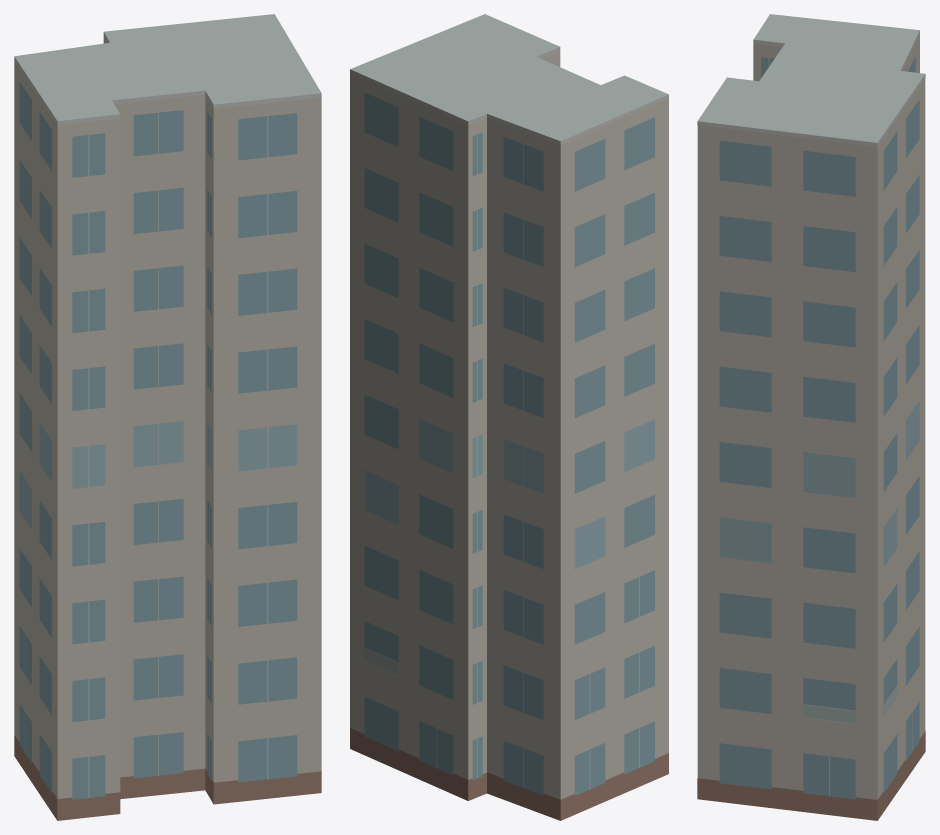
Rendered from survey-upis-32690069.glb.
3 views of the same model, side by side, from view 1: azimuth 30°, elevation 25°; view 2: azimuth 150°, elevation 25°; view 3: azimuth 270°, elevation 25° (orthographic). The views are drawn at different scales.
Visible parts, largest first — view 1: survey-upis-32690069.tmp; view 2: survey-upis-32690069.tmp; view 3: survey-upis-32690069.tmp.
Part boxes in pixels (x1,y1,x2,y2): survey-upis-32690069.tmp: (14,14,321,820); survey-upis-32690069.tmp: (350,14,668,820); survey-upis-32690069.tmp: (697,14,925,820).
Size of the model in its own units: 16.86 by 41.3 by 12.6.
